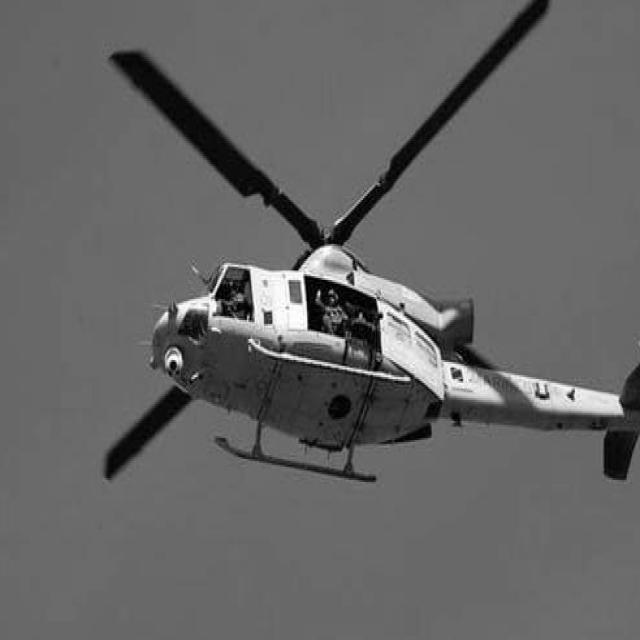helicopter: (109, 1, 640, 540)
